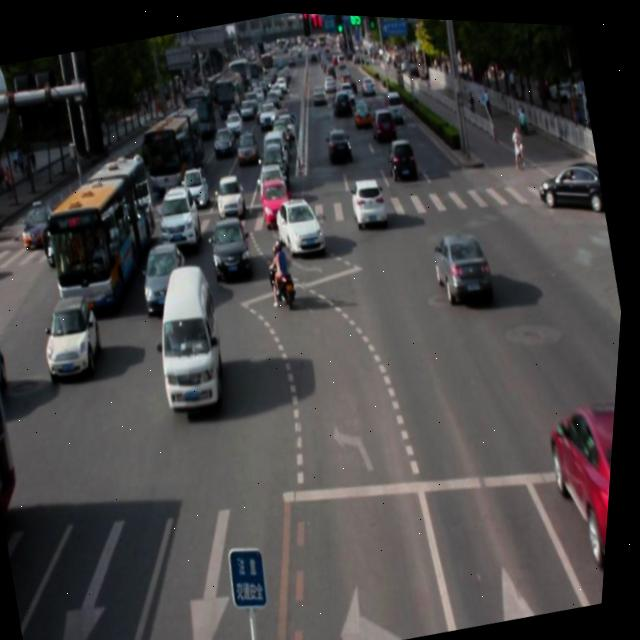car: (541, 384, 621, 573), (38, 286, 116, 388), (428, 218, 501, 307), (137, 233, 200, 315), (271, 188, 332, 256), (206, 211, 261, 283), (346, 168, 392, 227)
truck: (143, 256, 243, 413)
van: (32, 144, 176, 318)
